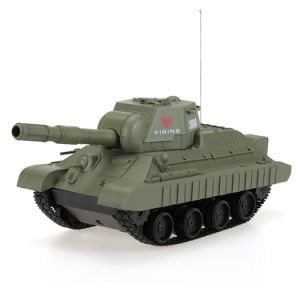Battle Tank: (8, 87, 300, 250)
